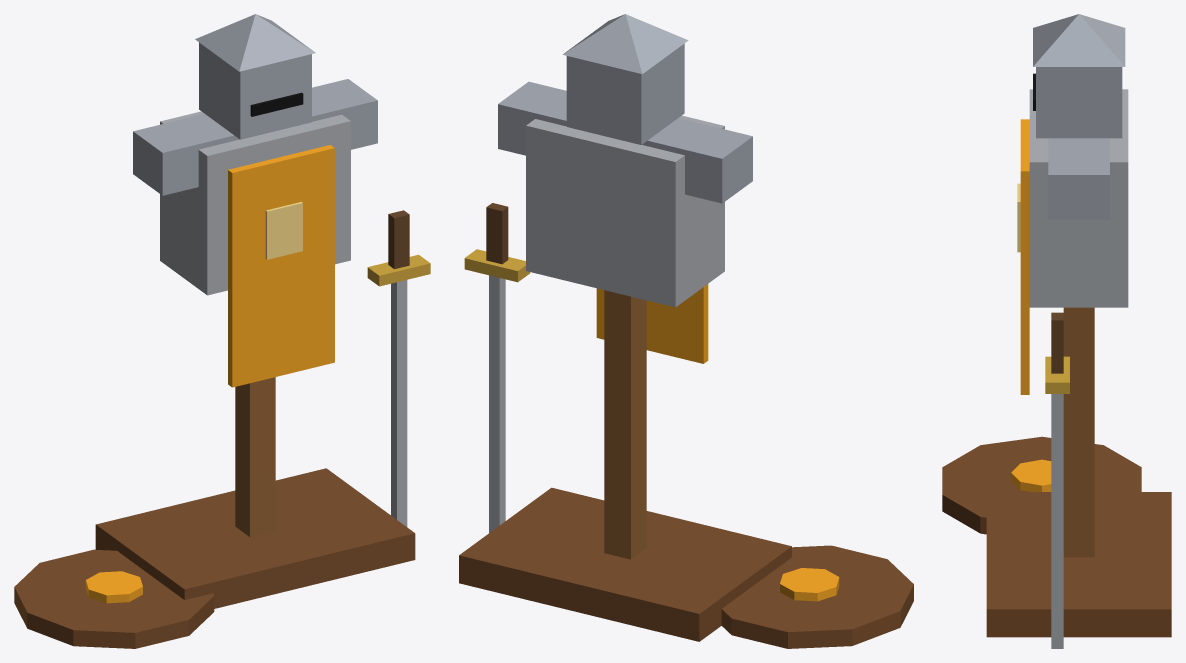
File: camp_armorstand.glb
The picture shows the model from 3 angles, left to right: view 1: azimuth 30°, elevation 25°; view 2: azimuth 150°, elevation 25°; view 3: azimuth 270°, elevation 25°; orthographic projection. The views are drawn at different scales.
Visible parts, largest first — view 1: camp_armorstand; view 2: camp_armorstand; view 3: camp_armorstand.
Boxes of the visible parts, x1,y1,x2,y2 form: camp_armorstand: (14,14,430,648); camp_armorstand: (459,14,913,648); camp_armorstand: (942,14,1171,648).
Size of the model in its own units: 1.58 by 2.02 by 0.7434.
Materials: 1 (1 with a texture image).
